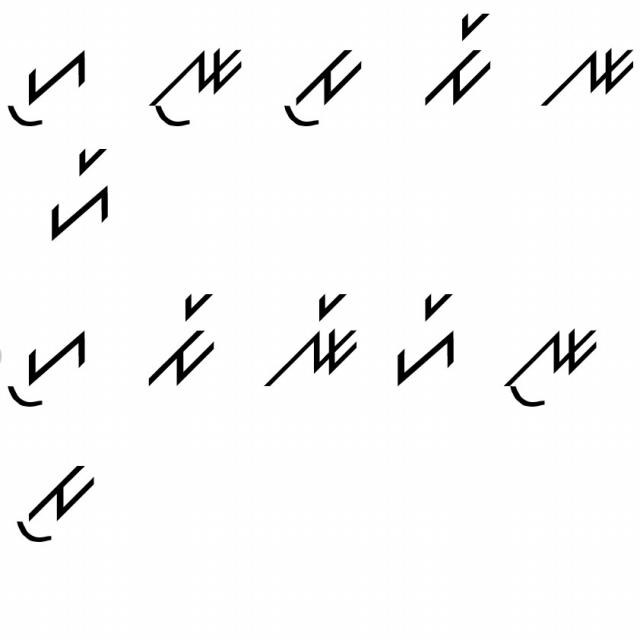har: (389, 283, 464, 392), (43, 144, 120, 245)
haw: (5, 316, 91, 416), (3, 47, 92, 136)
mbar: (415, 7, 496, 115), (144, 285, 224, 393)
mbaw: (11, 452, 105, 556), (278, 38, 371, 136)
nda: (524, 33, 637, 118)
ndar: (264, 281, 361, 394)
ndaw: (497, 316, 604, 424), (144, 43, 249, 143)
